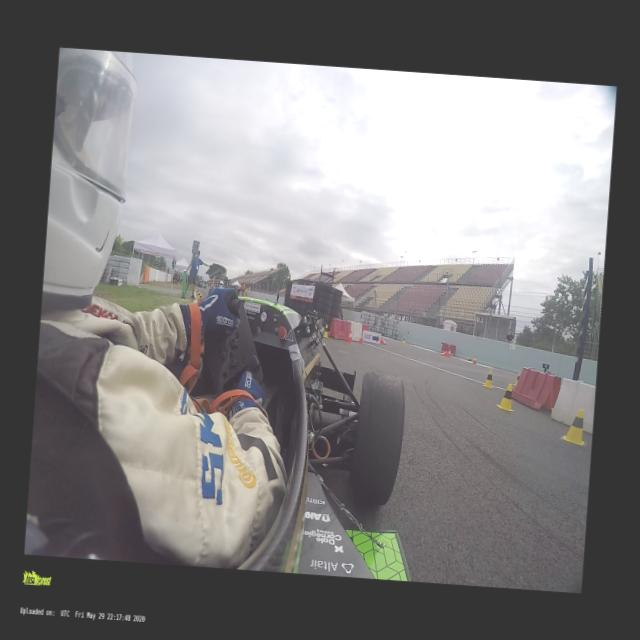orange_cone: (347, 330, 352, 342), (472, 354, 477, 364), (359, 332, 363, 344), (440, 350, 447, 355), (380, 338, 386, 343), (448, 348, 450, 357)
yellow_cone: (562, 408, 586, 446), (496, 382, 516, 411), (483, 368, 494, 388), (323, 324, 329, 337), (514, 371, 520, 382), (402, 336, 405, 343)
